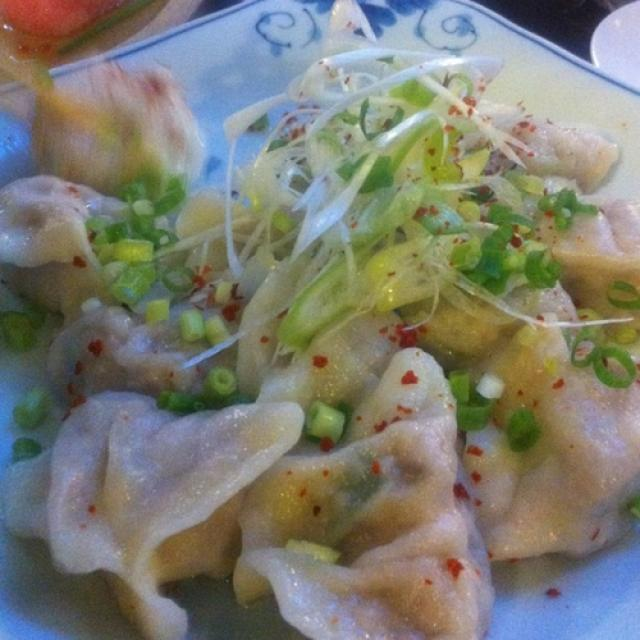带馅早点: (16, 13, 610, 621)
